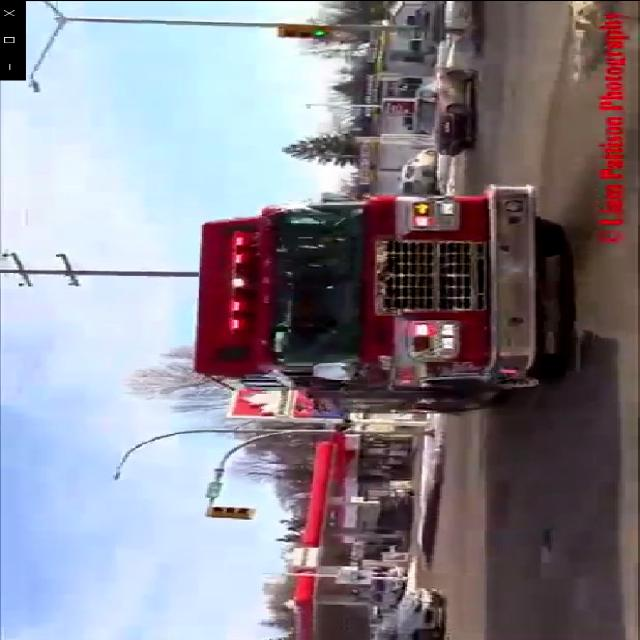emergency: (188, 178, 581, 421)
